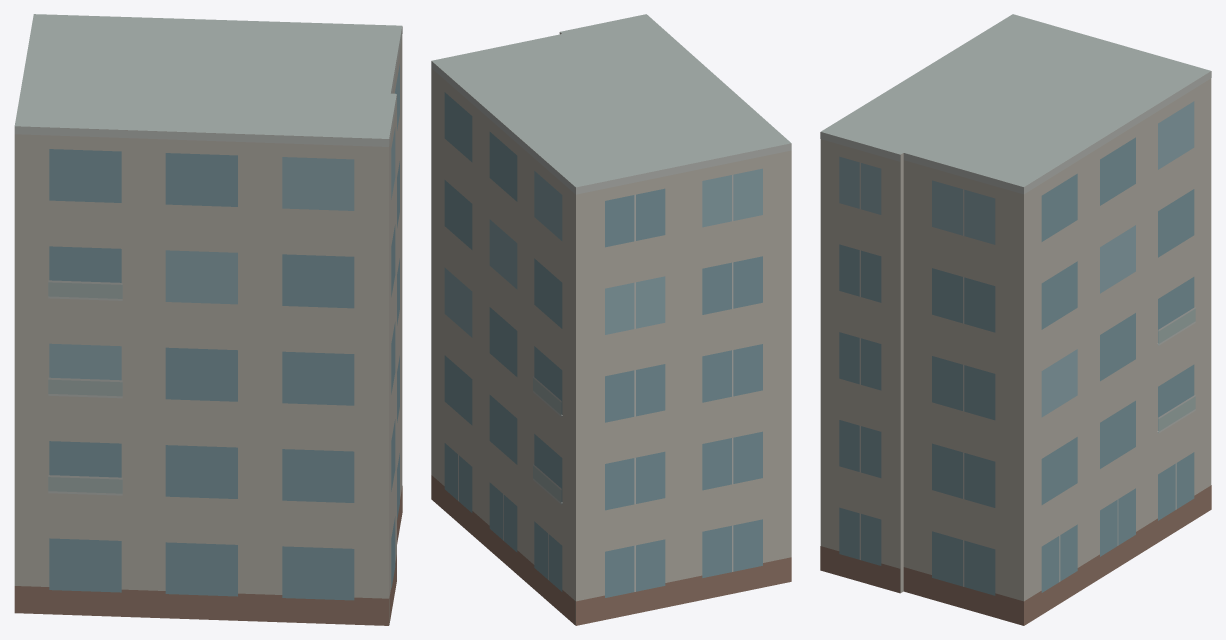
File: survey-upis-32770948.glb
3 views of the same model, side by side, from view 1: azimuth 30°, elevation 25°; view 2: azimuth 150°, elevation 25°; view 3: azimuth 270°, elevation 25° (orthographic). The views are drawn at different scales.
Parts seen in each view (by area): view 1: survey-upis-32770948.tmp; view 2: survey-upis-32770948.tmp; view 3: survey-upis-32770948.tmp.
Boxes of the visible parts, box(x1,y1,x2,y2) form: survey-upis-32770948.tmp: box(14, 14, 402, 625); survey-upis-32770948.tmp: box(431, 14, 791, 625); survey-upis-32770948.tmp: box(820, 14, 1211, 625).
Bounding box in the file's own units: 12.54 × 14.8 × 11.96.
